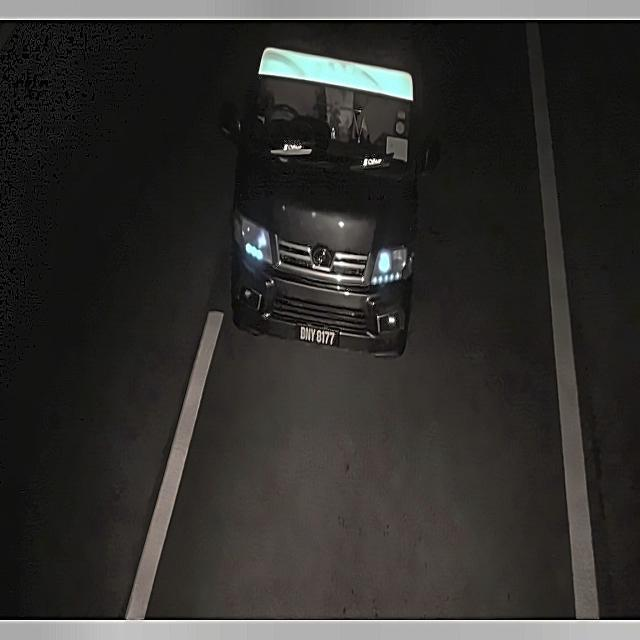car: (290, 311, 346, 356)
